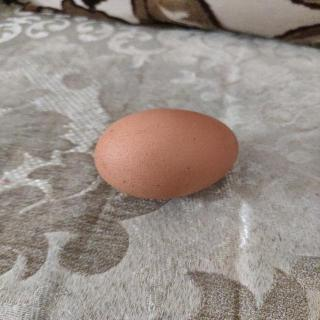Telur: (91, 107, 244, 203)
